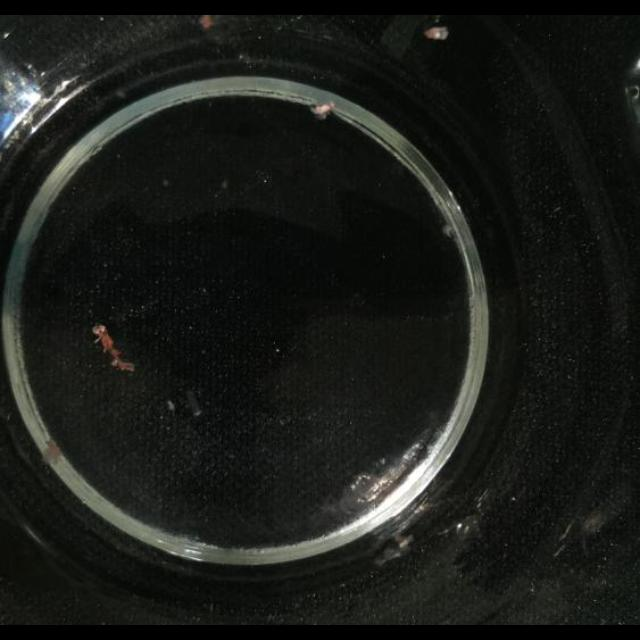Fragment: (88, 321, 138, 379)
microbeads: (312, 96, 336, 120), (424, 24, 452, 44), (42, 439, 62, 465), (192, 15, 220, 33)
